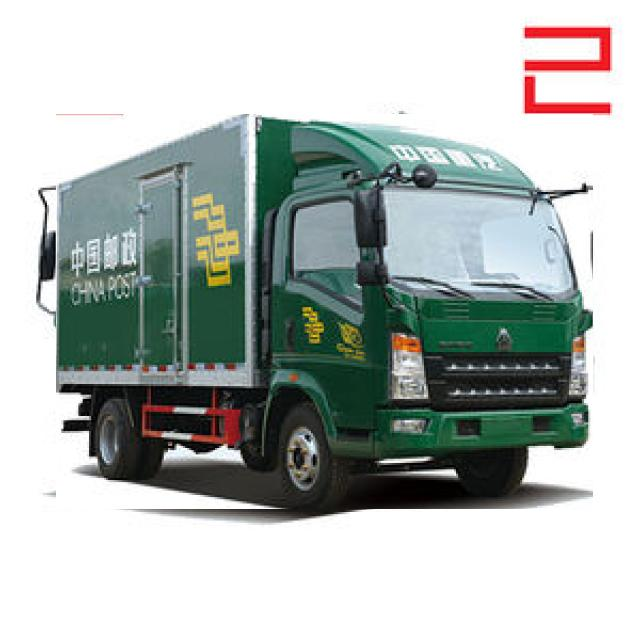truck: (56, 114, 592, 509)
